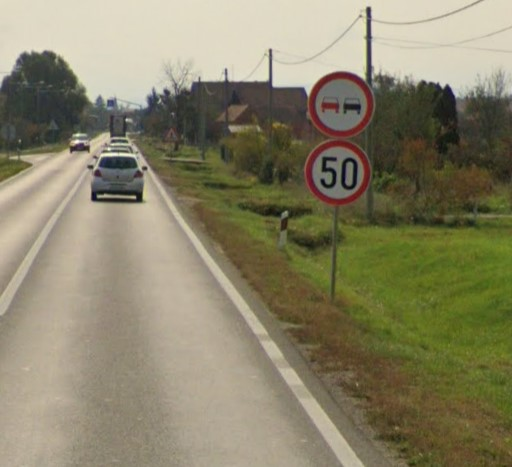Ograničenje brzine 50: (304, 139, 372, 205)
Zabrana pretjecanja: (308, 71, 374, 138)
